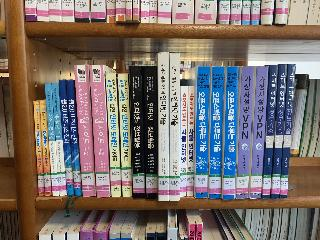book-spine: (74, 64, 96, 197), (89, 64, 110, 198), (249, 66, 269, 199), (128, 65, 146, 199), (236, 65, 254, 199), (261, 64, 278, 199), (222, 66, 239, 200), (141, 66, 158, 199), (208, 66, 225, 199), (271, 64, 287, 199), (280, 63, 296, 198), (194, 66, 210, 199), (66, 79, 82, 197), (106, 73, 121, 197), (169, 52, 181, 201), (59, 79, 74, 195), (118, 73, 132, 197), (51, 83, 66, 196), (158, 52, 169, 201), (45, 83, 59, 196), (39, 101, 52, 196), (33, 101, 45, 196), (179, 86, 188, 197), (186, 86, 195, 196)
